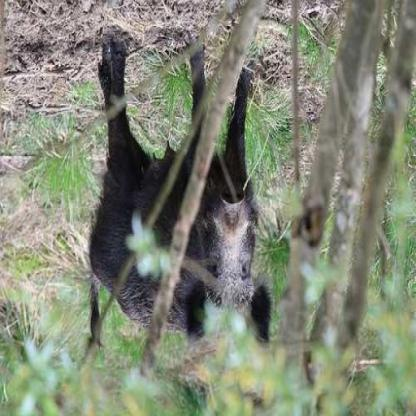boar: (56, 61, 302, 346)
